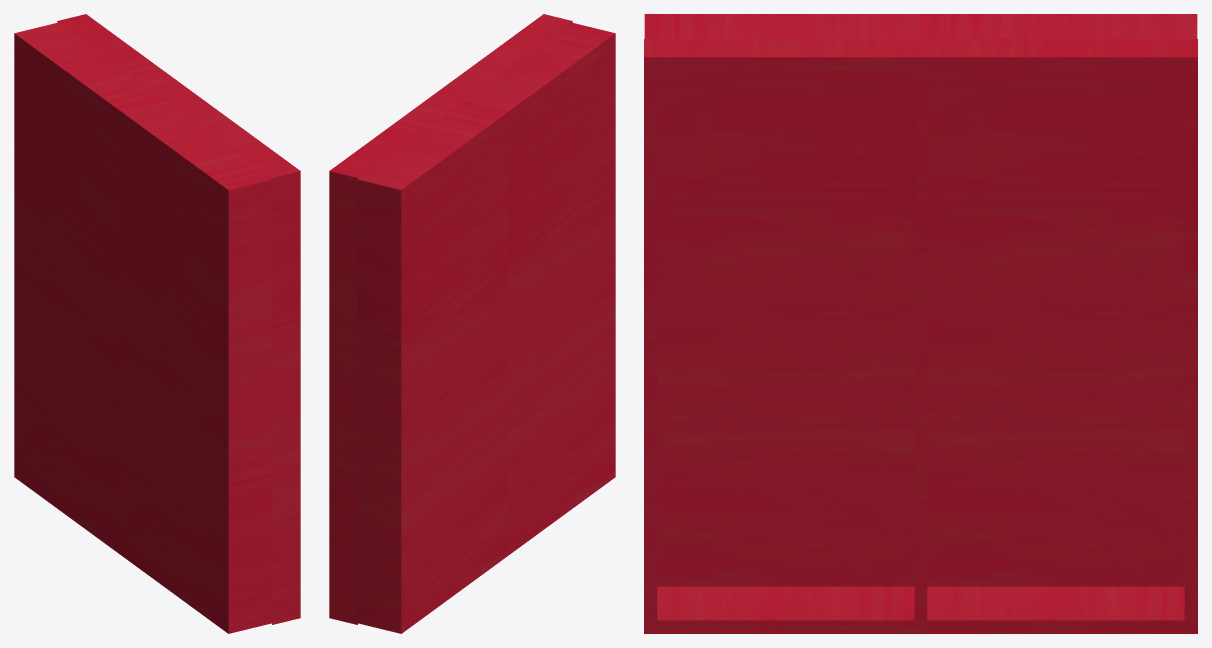
The model's file is Wall_Window_Office.fbx.
3 views of the same model, side by side, from view 1: azimuth 30°, elevation 25°; view 2: azimuth 150°, elevation 25°; view 3: azimuth 270°, elevation 25° (orthographic). The views are drawn at different scales.
Parts seen in each view (by area): view 1: Wall_Window; view 2: Wall_Window; view 3: Wall_Window.
Part boxes in pixels (box(x1,y1,x2,y2)): Wall_Window: box(14, 14, 300, 633); Wall_Window: box(329, 14, 615, 633); Wall_Window: box(644, 14, 1197, 633).
Bounding box in the file's own units: 35.58 × 211 × 183.
